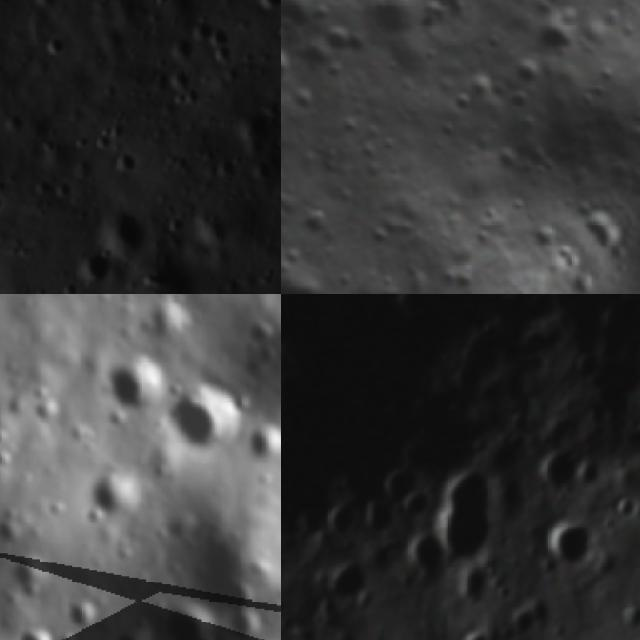crater: (429, 470, 506, 564), (170, 374, 241, 462), (314, 548, 380, 614), (103, 352, 172, 413), (351, 0, 429, 50), (310, 8, 370, 69), (536, 520, 604, 572), (94, 206, 148, 264), (397, 535, 449, 592), (534, 448, 582, 501), (10, 549, 54, 605), (152, 599, 211, 640), (92, 472, 134, 524), (412, 0, 493, 26), (71, 245, 113, 291), (243, 423, 281, 464), (66, 598, 103, 635), (161, 30, 201, 64), (281, 31, 302, 91), (613, 598, 640, 635), (161, 66, 197, 93), (87, 125, 118, 154), (8, 623, 55, 640), (115, 148, 143, 175), (27, 0, 65, 14), (453, 629, 496, 640), (255, 0, 281, 11), (629, 435, 640, 458)
